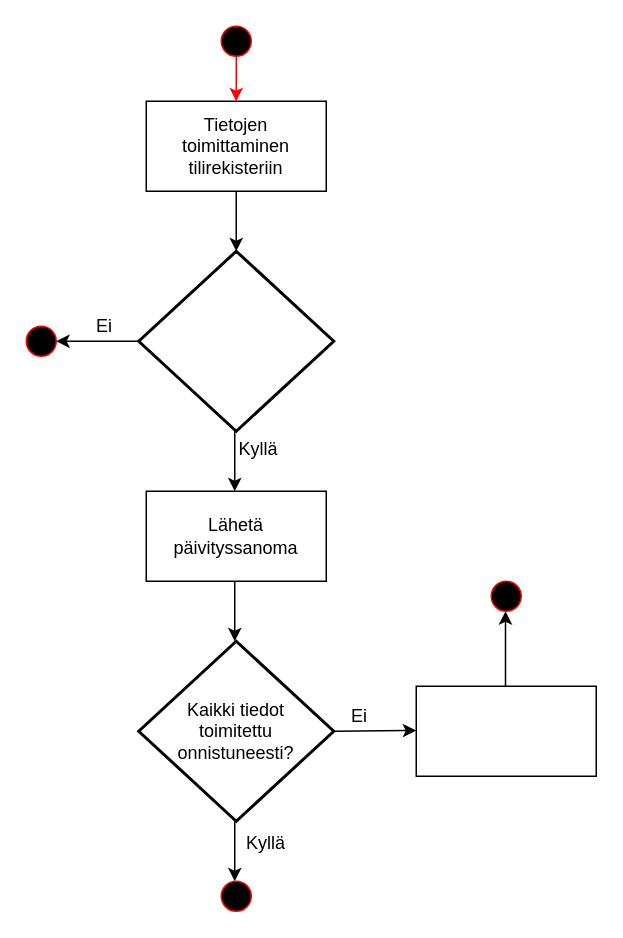
The diagram is 623 pixels wide and 938 high, and some of its shapes have lost their labels. Each missing label, with the centre of its shape:
"Hylkää koko sanoma" goes at pixel 505 730.
"Tilirekisterin käyttöoikeus olemassa?" goes at pixel 235 340.
